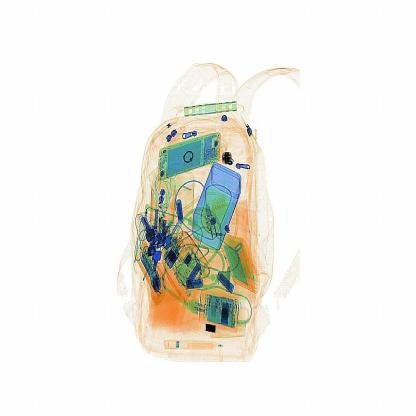scissors: (218, 145, 240, 175)
